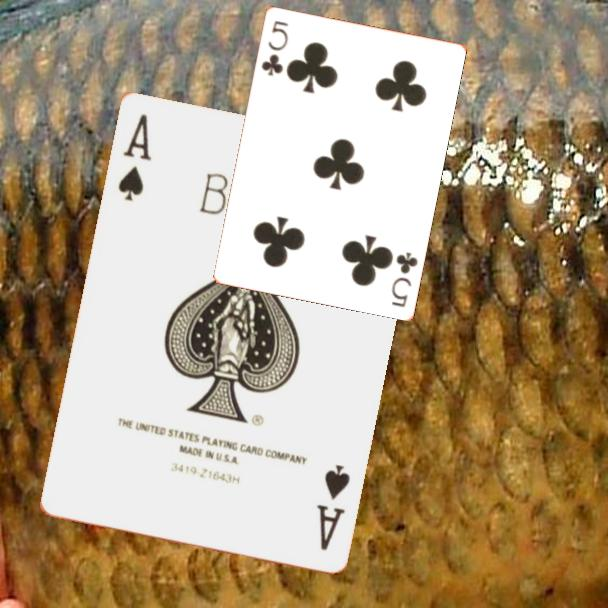c05: (257, 17, 291, 78), (387, 248, 420, 310)
s01: (114, 109, 154, 204), (313, 460, 353, 553)
